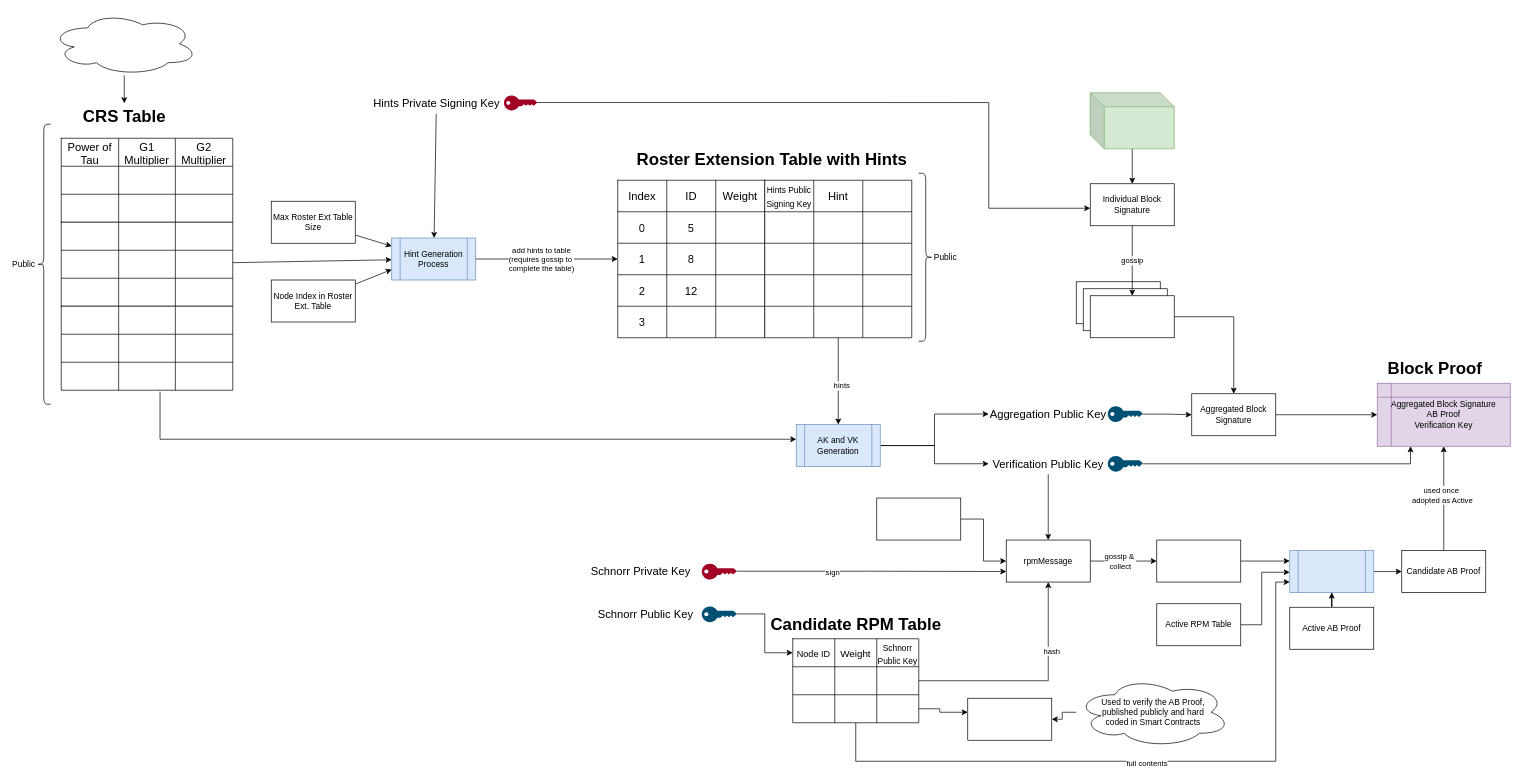
This 1523x780 diagram has some shape labels left out. The centre of each missing label's shape, as x and y in pixels:
"AB Proof Generation" belongs at (x=1331, y=571).
"Block" belongs at (x=1132, y=120).
"Candidate Roster Hash" belongs at (x=918, y=518).
"Collection of individual Block Signature" belongs at (x=1132, y=316).
"Generated or provided once per network" belongs at (x=124, y=43).
"Genesis RPM Hash" belongs at (x=1009, y=719).
"rpmMessage Schnorr signatures" belongs at (x=1198, y=560).
